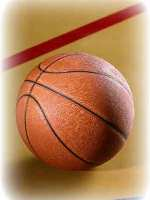basketball: (15, 52, 134, 172)
